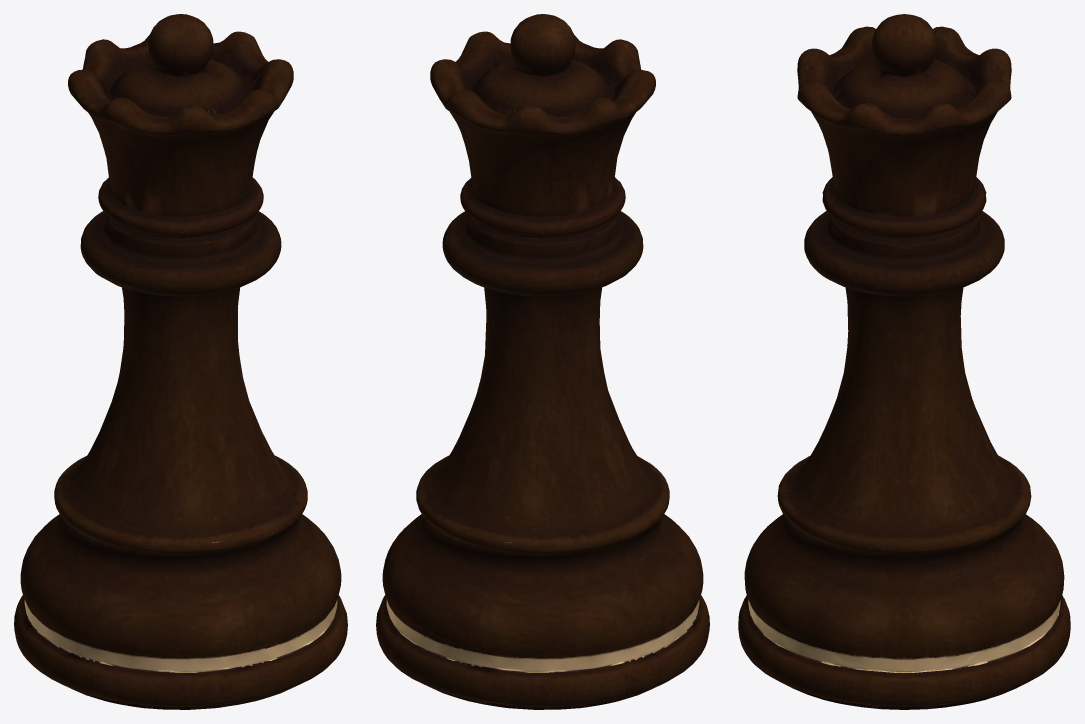
File: queen_dark.glb
3 views of the same model, side by side, from view 1: azimuth 30°, elevation 25°; view 2: azimuth 150°, elevation 25°; view 3: azimuth 270°, elevation 25° (orthographic).
Visible parts, largest first — view 1: geometry_0; view 2: geometry_0; view 3: geometry_0.
Part boxes in pixels (x1,y1,x2,y2): geometry_0: (14,14,347,709); geometry_0: (376,14,709,709); geometry_0: (738,14,1070,709).
Size of the model in its own units: 0.6221 by 1.3 by 0.6217.
1 material, 1 textured.
